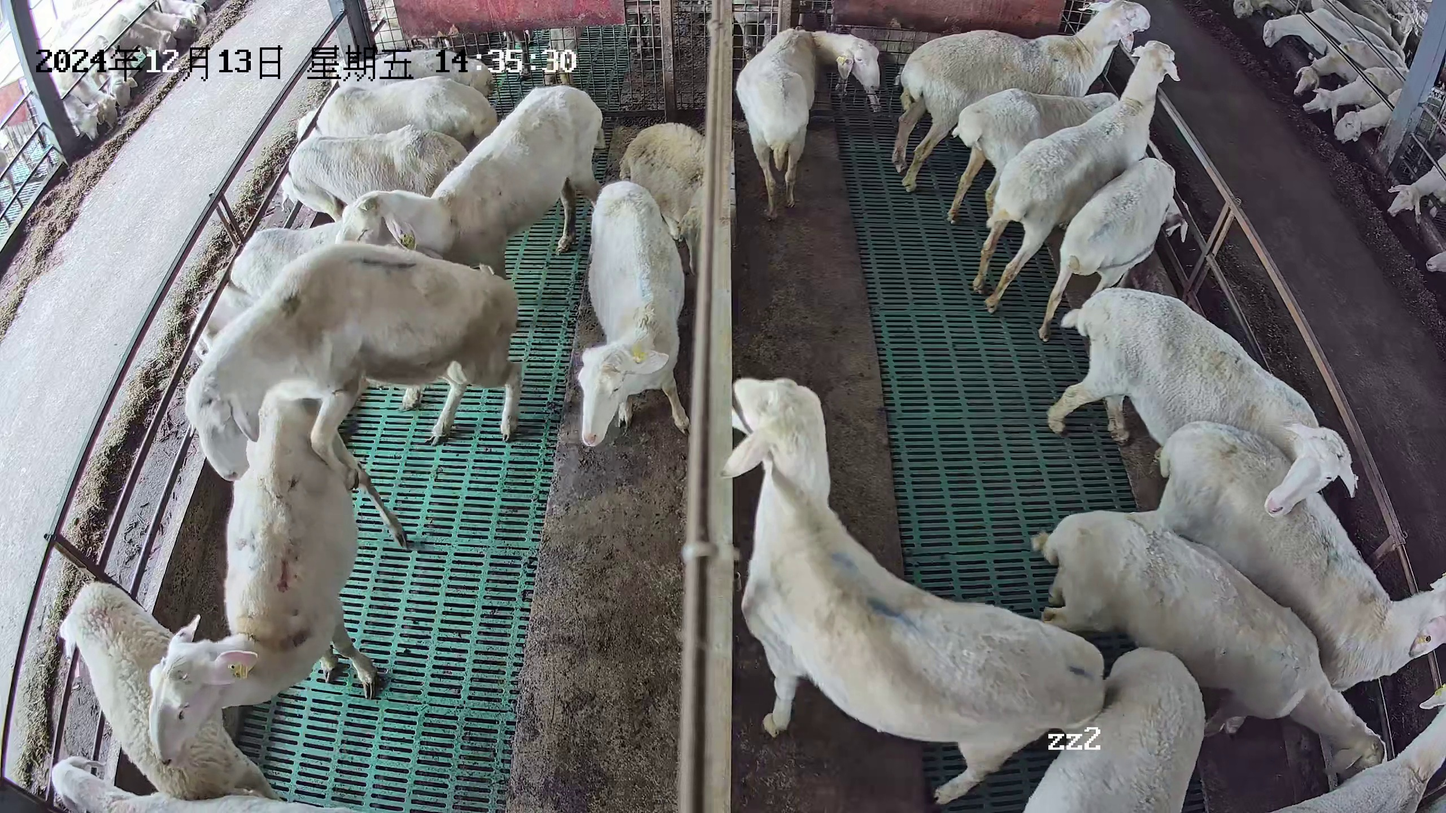Smounting: (142, 238, 525, 772)
mounted: (145, 389, 408, 768)
